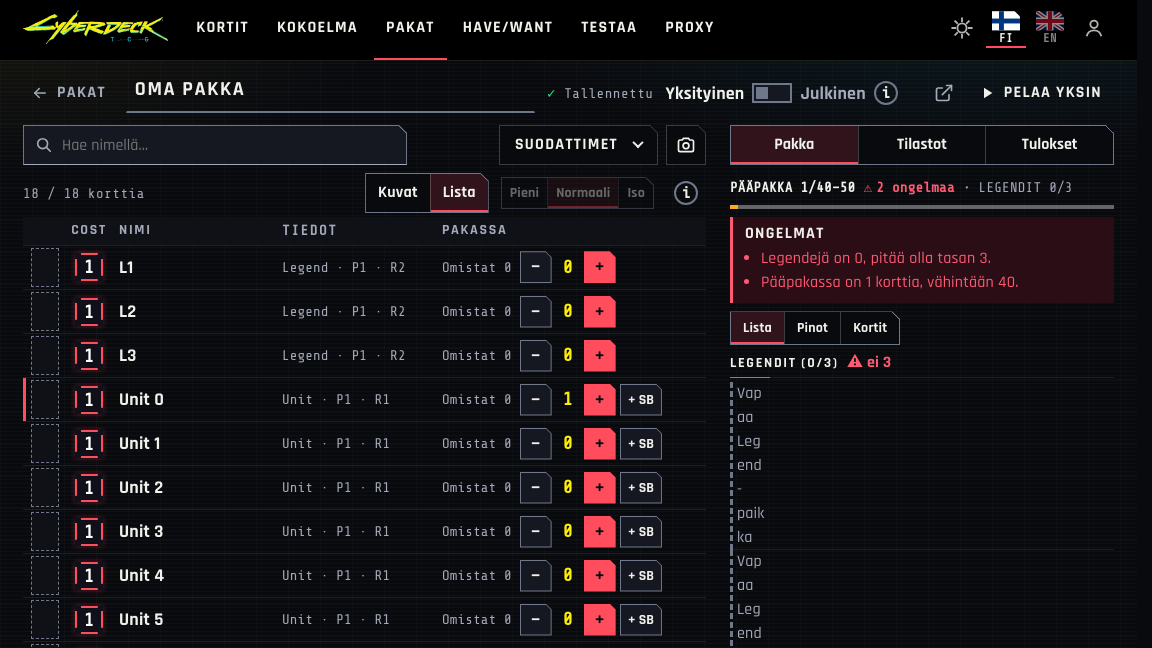
Test: Problem marks in the deck list (T-101) › marks a sideboard of the wrong size
This screenshot has width=1152, height=648.
Expected: the text "⚠ ei 0 eikä 7" is not shown
Click the button with aria-label "Lisää sideboardiin: Unit 3".
click(641, 532)  # box left=620, top=516, right=662, bottom=548
(page scrolled)
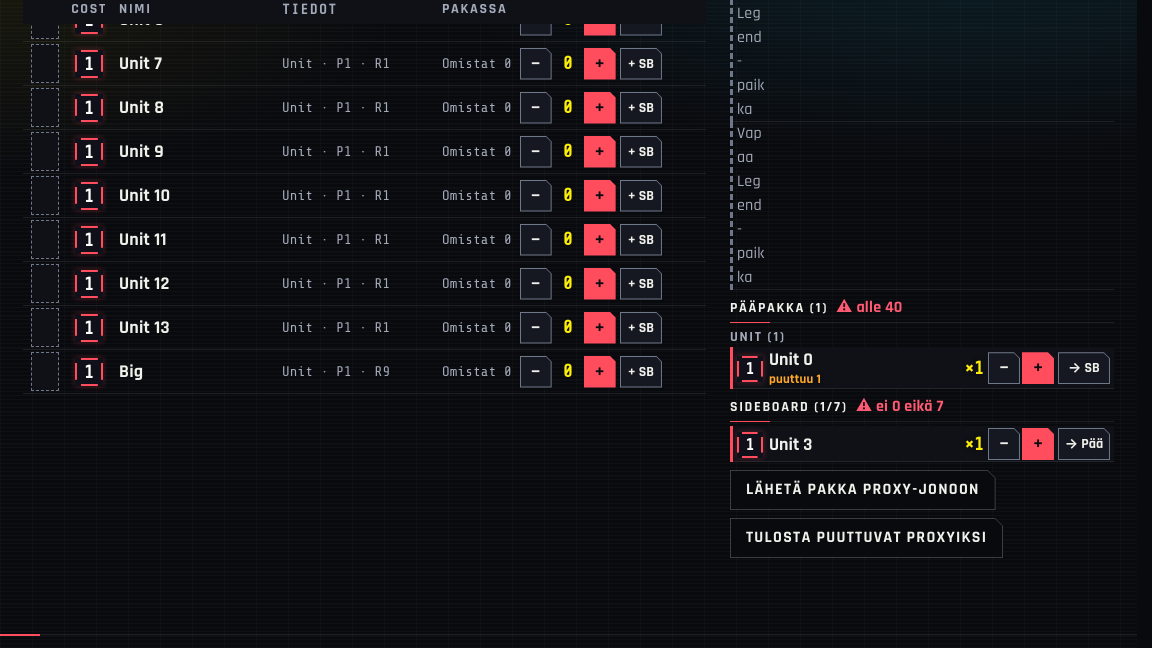
Now the text "⚠ ei 0 eikä 7" is shown, box left=856, top=396, right=944, bottom=417
